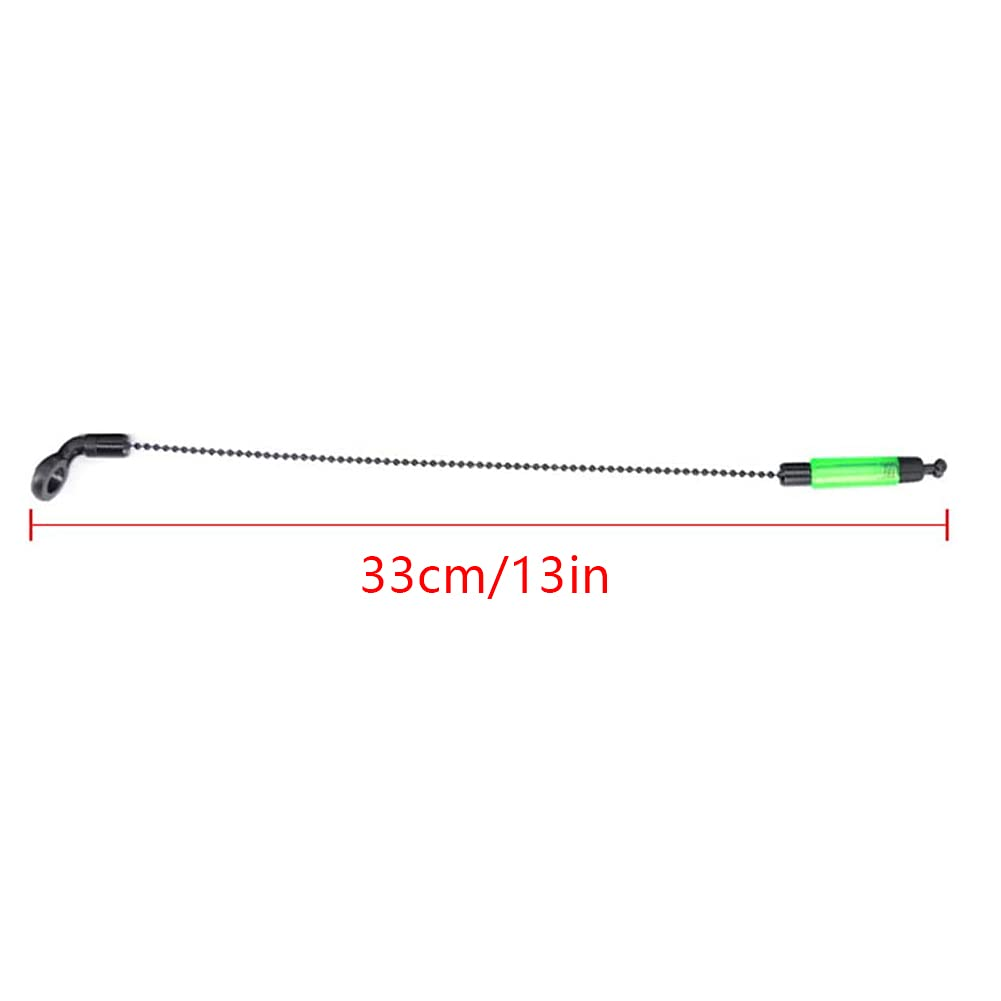33cm/13in: (362, 555, 607, 599)
